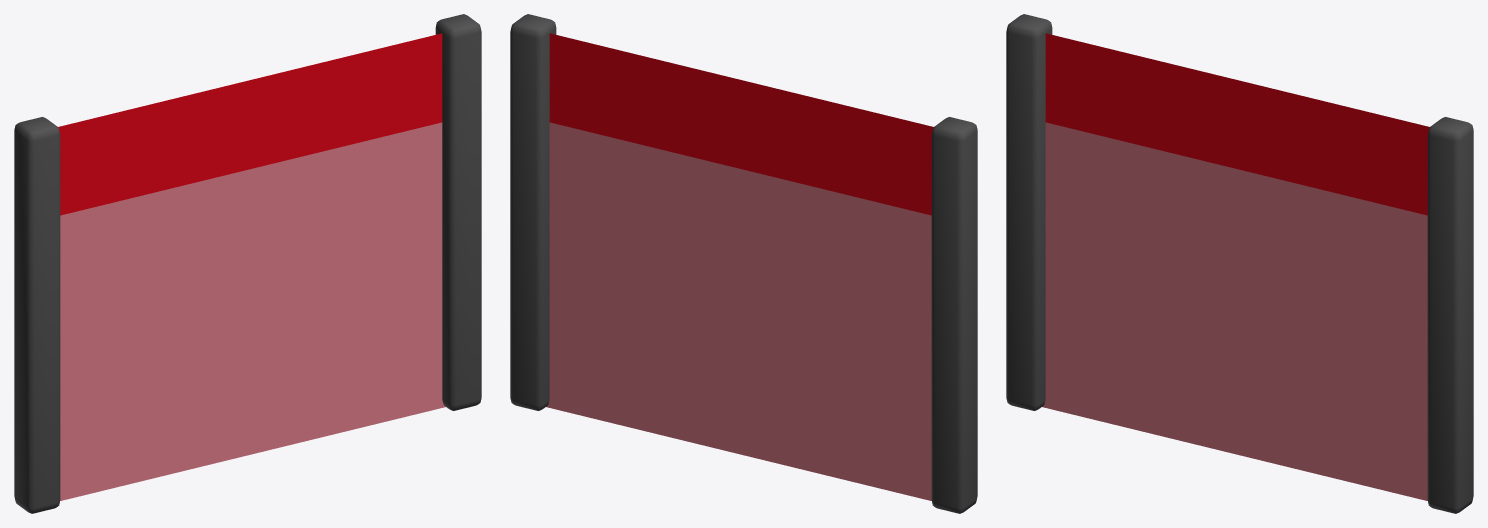
The model's file is M_Gate.fbx.
3 renders of one model, left to right at view 1: azimuth 30°, elevation 25°; view 2: azimuth 150°, elevation 25°; view 3: azimuth 330°, elevation 25°, orthographic.
Parts seen in each view (by area): view 1: Gate; view 2: Gate; view 3: Gate.
Part boxes in pixels (bbox=[...]): Gate: bbox=[14, 14, 481, 513]; Gate: bbox=[510, 14, 977, 513]; Gate: bbox=[1006, 14, 1473, 513].
Bounding box in the file's own units: 182 × 146 × 12.18.
